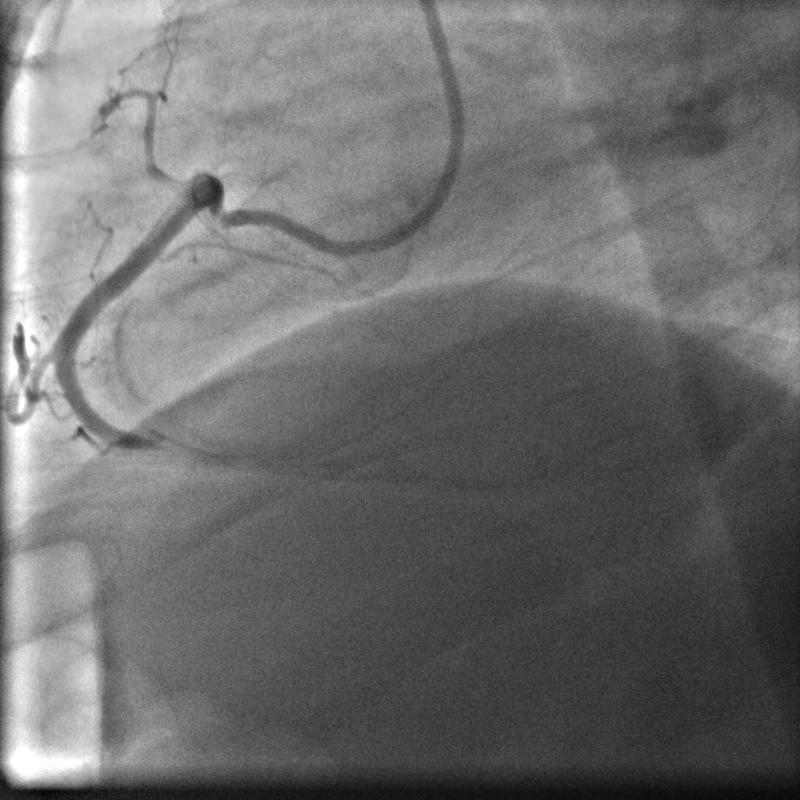Stenosis: (134, 431, 189, 458)
